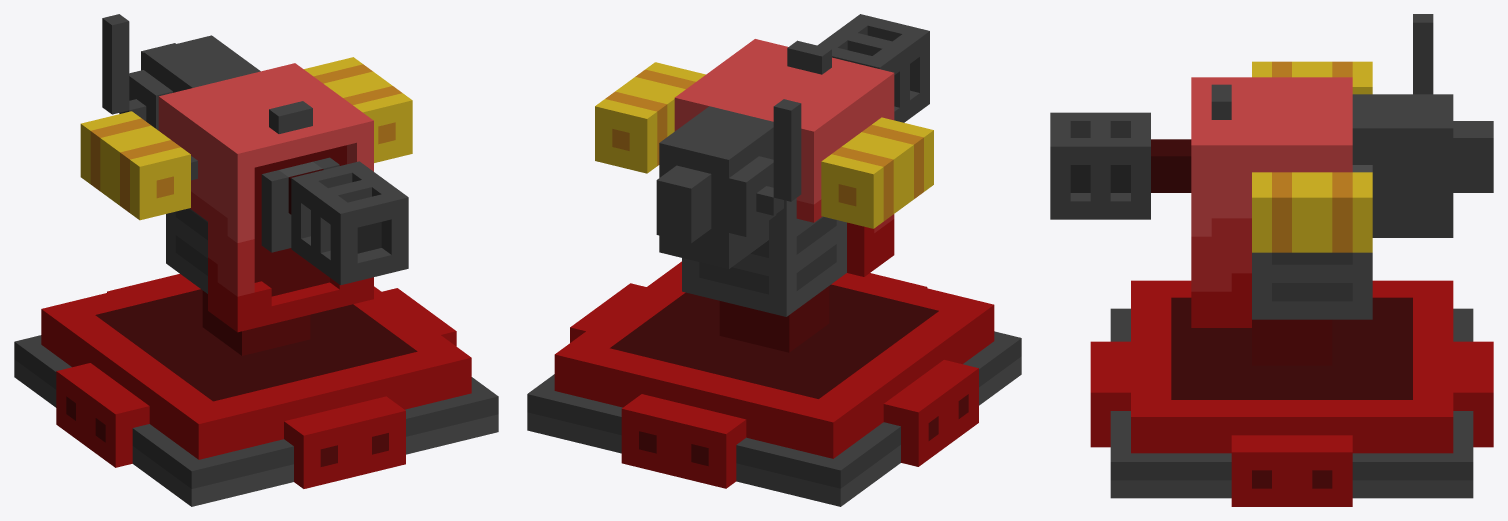
File: Turret(Tower_Defens)-1.glb
The picture shows the model from 3 angles, left to right: view 1: azimuth 30°, elevation 25°; view 2: azimuth 150°, elevation 25°; view 3: azimuth 270°, elevation 25°; orthographic projection. The views are drawn at different scales.
Size of the model in its own units: 2 by 2 by 2.2.
Materials: 1 (1 with a texture image).
